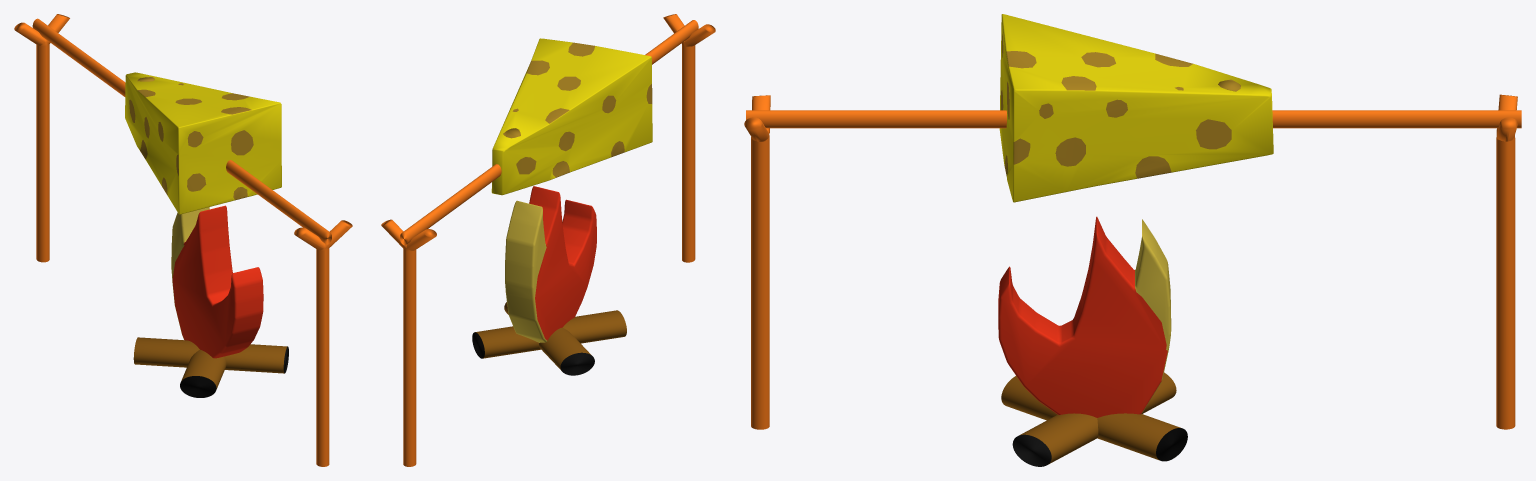
Rendered from camp.glb.
3 renders of one model, left to right at view 1: azimuth 30°, elevation 25°; view 2: azimuth 150°, elevation 25°; view 3: azimuth 270°, elevation 25°, orthographic. The views are drawn at different scales.
Visible parts, largest first — view 1: Cube, Plane, Cylinder.001, Cylinder.002, Cylinder.004, Cylinder, Cylinder.003; view 2: Cube, Plane, Cylinder.002, Cylinder.001, Cylinder.003, Cylinder, Cylinder.004; view 3: Cube, Plane, Cylinder, Cylinder.002, Cylinder.001, Cylinder.003, Cylinder.004.
Boxes of the visible parts, left/top/right/bottom form: Cube: left=125, top=72, right=281, bottom=214; Plane: left=171, top=205, right=263, bottom=358; Cylinder.001: left=294, top=220, right=352, bottom=466; Cylinder.002: left=14, top=14, right=69, bottom=262; Cylinder.004: left=133, top=337, right=288, bottom=373; Cylinder: left=32, top=18, right=331, bottom=244; Cylinder.003: left=180, top=349, right=226, bottom=397; Cube: left=491, top=38, right=652, bottom=195; Plane: left=505, top=186, right=596, bottom=342; Cylinder.002: left=381, top=219, right=436, bottom=466; Cylinder.001: left=663, top=14, right=715, bottom=262; Cylinder.003: left=472, top=310, right=626, bottom=358; Cylinder: left=400, top=20, right=698, bottom=245; Cylinder.004: left=504, top=302, right=594, bottom=375; Cube: left=999, top=14, right=1273, bottom=202; Plane: left=998, top=216, right=1171, bottom=417; Cylinder: left=746, top=110, right=1521, bottom=128; Cylinder.002: left=1496, top=94, right=1517, bottom=429; Cylinder.001: left=744, top=95, right=770, bottom=429; Cylinder.003: left=1001, top=376, right=1187, bottom=461; Cylinder.004: left=1012, top=372, right=1176, bottom=466.
Bounding box in the file's own units: 1.52 × 3.19 × 5.95.
